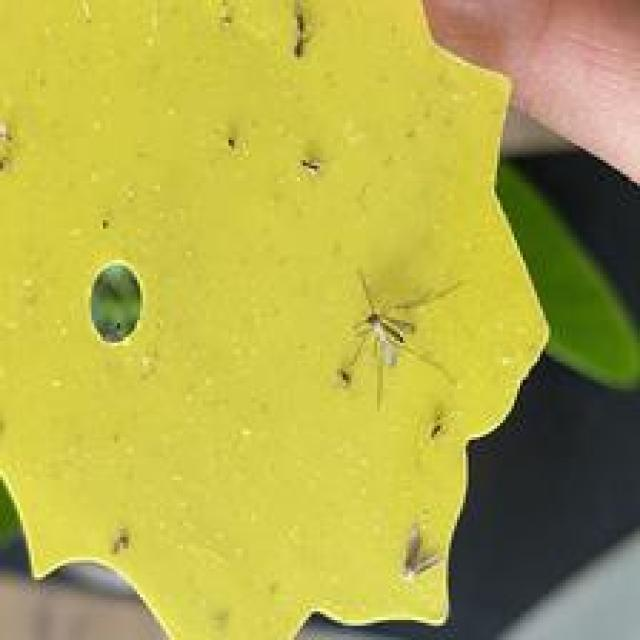Culex: (334, 268, 463, 412)
